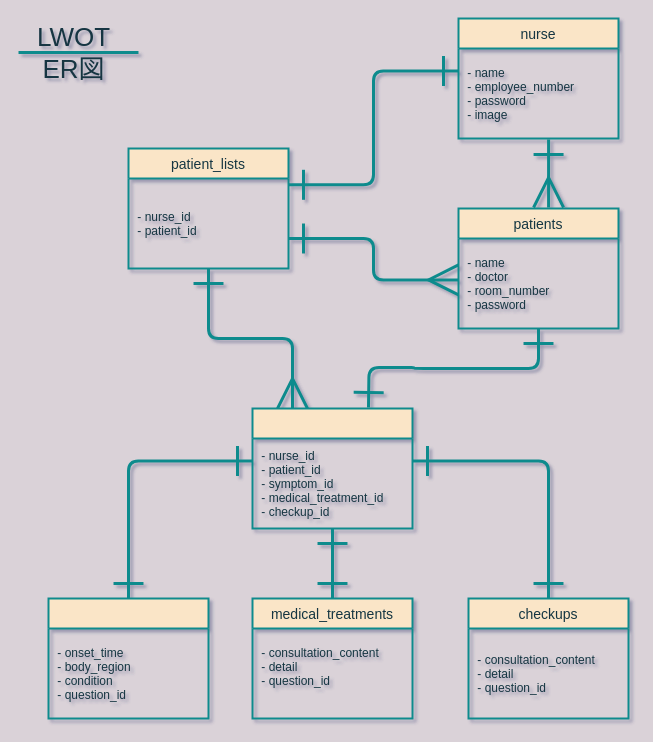
Image size: 653x742. Some labels were removed from this diagram. The shapes that lost their labels are listed below. From the top down, each one's box as (x1, y1, x2, y2) in pixels, then its label:
(251, 407, 413, 529): questions
(47, 597, 209, 719): symptoms
